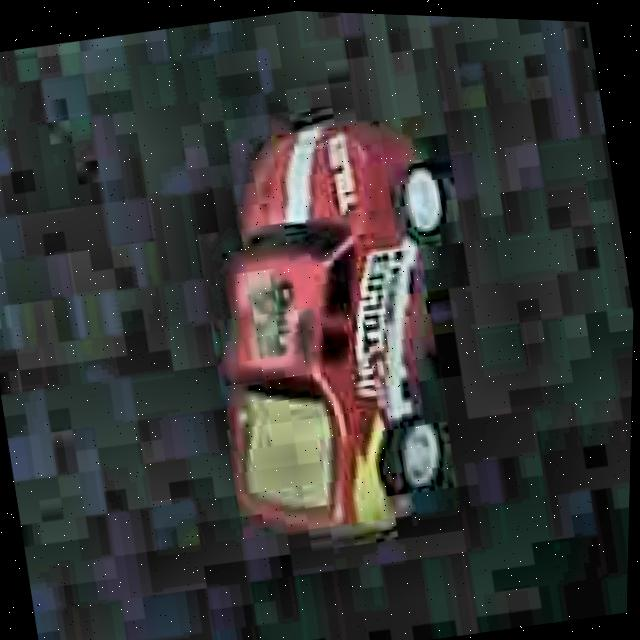car: (162, 82, 509, 563)
